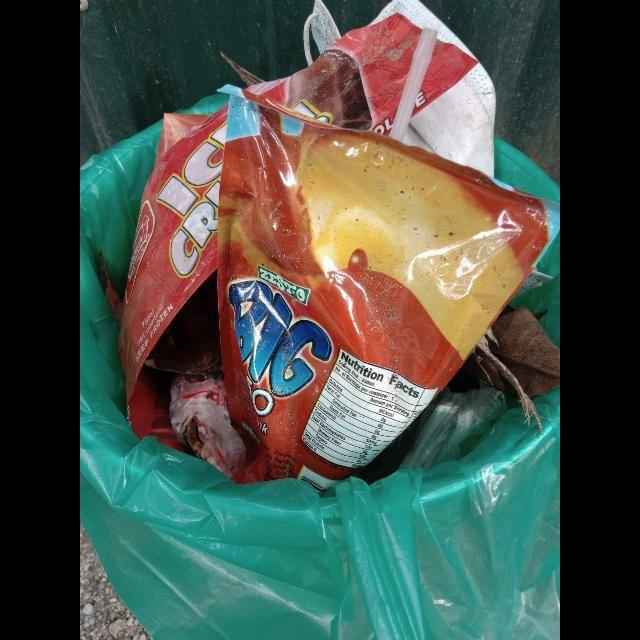food_wrapper: (216, 88, 549, 492), (118, 107, 228, 453), (246, 15, 422, 135), (413, 38, 478, 117)
plastic_bag: (169, 378, 247, 475)
